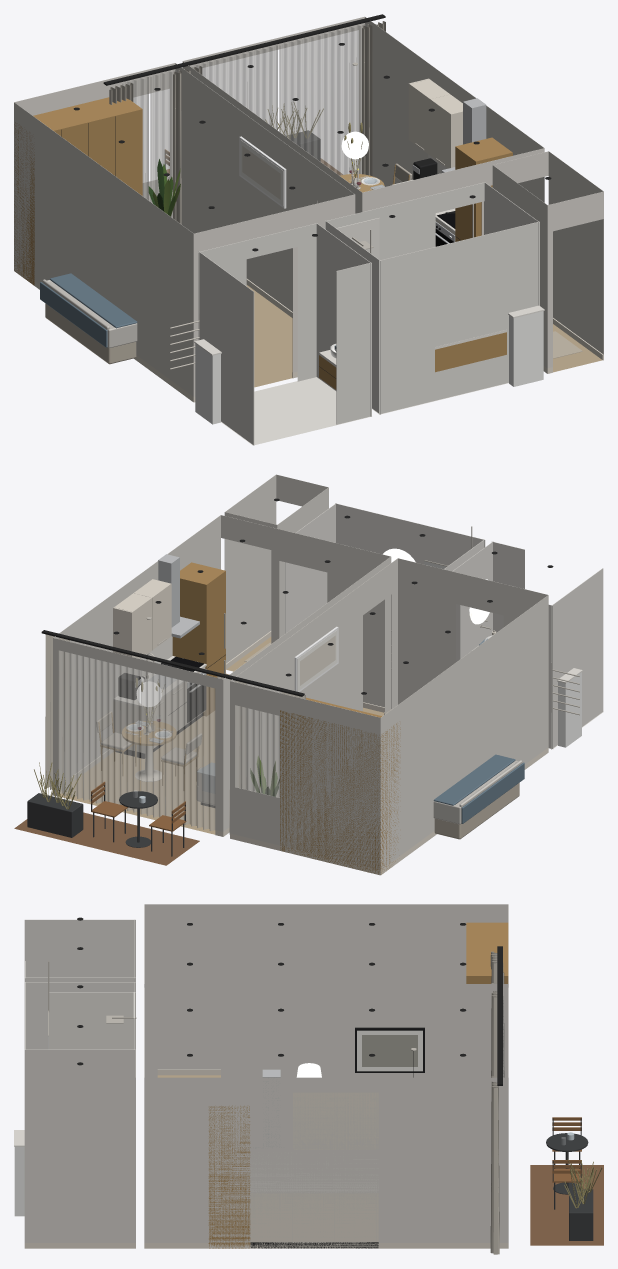
File: unit-1.A-atlantic.glb
The picture shows the model from 3 angles, top to bottom: view 1: azimuth 30°, elevation 25°; view 2: azimuth 150°, elevation 25°; view 3: azimuth 270°, elevation 25°; orthographic projection. The views are drawn at different scales.
Parts seen in each view (by area): view 1: int-wall, int-bathWall, int-sheer, int-joineryTall, int-joinery, int-bathFloor, int-whiteGloss, int-curtain, int-floor, int-bedThrow, int-matteBlack, int-headboard (+9 smaller); view 2: int-wall, int-sheer, int-bathWall, int-joineryTall, int-joinery, int-floor, int-curtain, int-deck, int-outdoor, int-bedThrow, int-matteBlack, int-steel (+13 smaller); view 3: int-wall, int-joinery, int-bathWall, int-joineryTall, int-showerWall, int-deck, int-curtain, int-outdoor, int-splash, int-art:1:2, int-matteBlack, int-teak (+4 smaller).
Boxes of the visible parts, x1,y1,x2,y2 form: int-wall: (14,16,603,396); int-bathWall: (198,182,539,445); int-sheer: (122,23,365,217); int-joineryTall: (14,97,512,389); int-joinery: (14,78,603,402); int-bathFloor: (221,377,508,445); int-whiteGloss: (195,311,543,424); int-curtain: (109,21,385,224); int-floor: (246,285,292,387); int-bedThrow: (40,273,137,347); int-matteBlack: (103,14,455,214); int-headboard: (45,303,136,364); int-wall: (53,474,548,869); int-sheer: (58,650,279,830); int-bathWall: (285,503,603,749); int-joineryTall: (172,562,400,874); int-joinery: (53,579,548,875); int-floor: (60,673,383,834); int-curtain: (45,634,305,834); int-deck: (14,812,199,865); int-outdoor: (27,783,185,856); int-bedThrow: (433,754,524,823); int-matteBlack: (41,630,304,758); int-steel: (135,554,206,699); int-wall: (24,904,508,1242); int-joinery: (24,1069,508,1248); int-bathWall: (24,919,135,1049); int-joineryTall: (208,922,508,1248); int-showerWall: (48,992,135,1049); int-deck: (530,1165,603,1245); int-curtain: (490,951,499,1254); int-outdoor: (546,1118,593,1240); int-splash: (250,1152,378,1191); int-art:1:2: (362,1035,417,1066); int-matteBlack: (250,946,502,1248); int-teak: (552,1117,581,1182).
Bounding box in the file's own units: 6.62 × 2.8 × 8.41.
